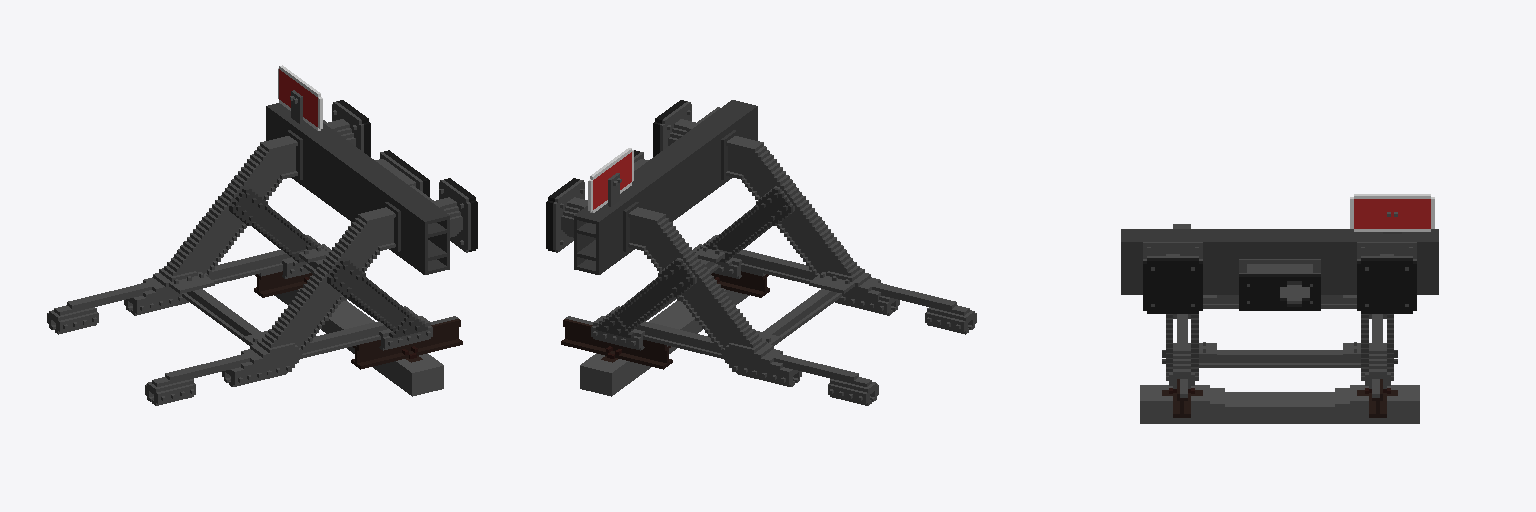
3 renders of one model, left to right at view 1: azimuth 30°, elevation 25°; view 2: azimuth 150°, elevation 25°; view 3: azimuth 270°, elevation 25°, orthographic.
Parts seen in each view (by area): view 1: RAIL_BASE_1; view 2: RAIL_BASE_1; view 3: RAIL_BASE_1.
Boxes of the visible parts, <box> form: RAIL_BASE_1: <box>47,65,477,405</box>; RAIL_BASE_1: <box>546,100,976,405</box>; RAIL_BASE_1: <box>1121,194,1438,423</box>.
Size of the model in its own units: 3 by 2.06 by 2.69.
Materials: 1 (1 with a texture image).